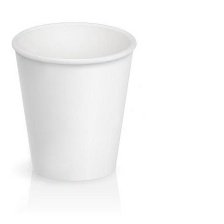paper_cup: (7, 15, 140, 186)
